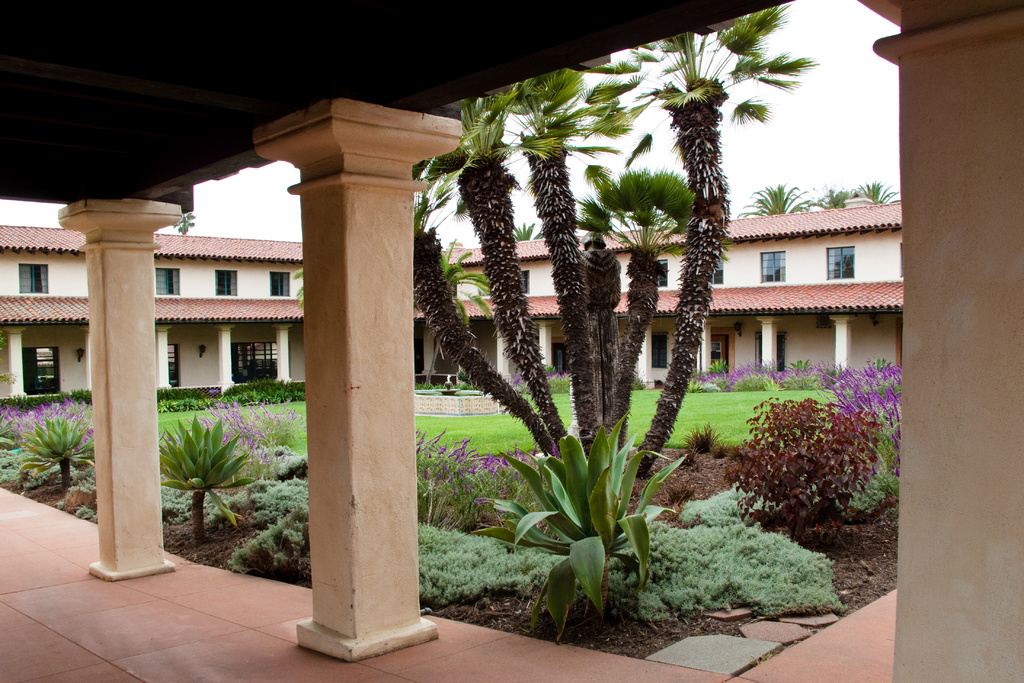Tree: (412, 3, 820, 518), (734, 176, 816, 213), (818, 180, 895, 209), (506, 219, 546, 239)
